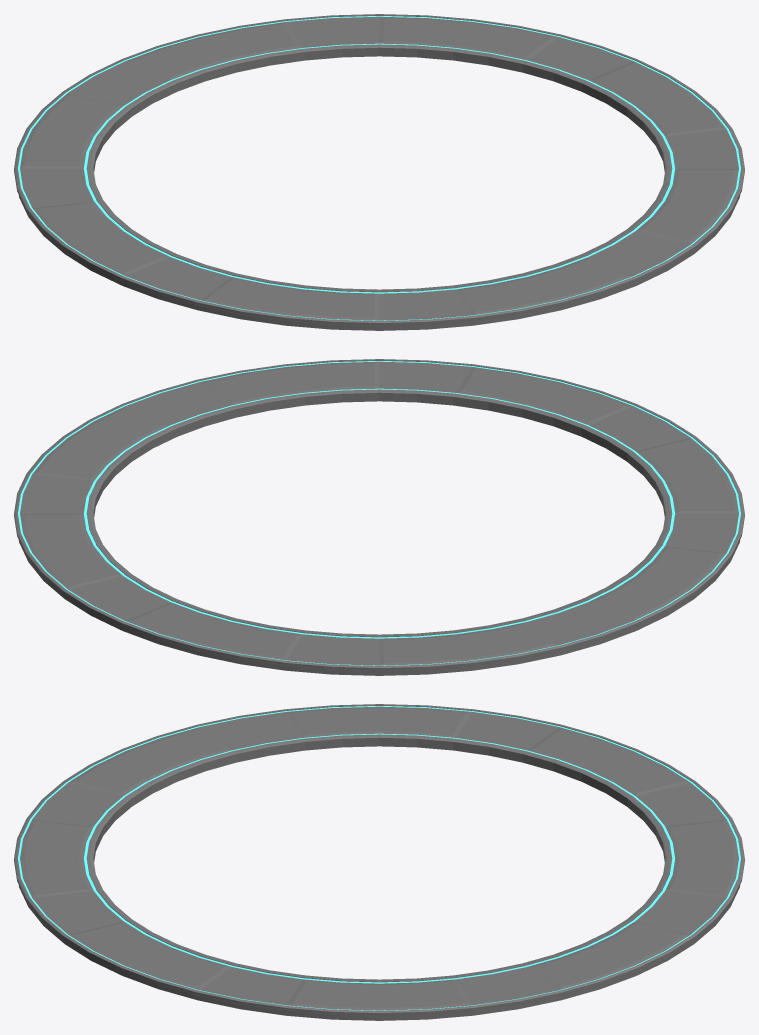
The model's file is Ring_02.fbx.
3 renders of one model, top to bottom at view 1: azimuth 30°, elevation 25°; view 2: azimuth 150°, elevation 25°; view 3: azimuth 270°, elevation 25°, orthographic.
Parts seen in each view (by area): view 1: Ring_Outer_007; view 2: Ring_Outer_007; view 3: Ring_Outer_007.
Boxes of the visible parts, x1=… form: Ring_Outer_007: x1=14, y1=14, x2=744, y2=330; Ring_Outer_007: x1=14, y1=359, x2=744, y2=675; Ring_Outer_007: x1=14, y1=704, x2=744, y2=1020.
Size of the model in its own units: 46 by 0.6357 by 46.
